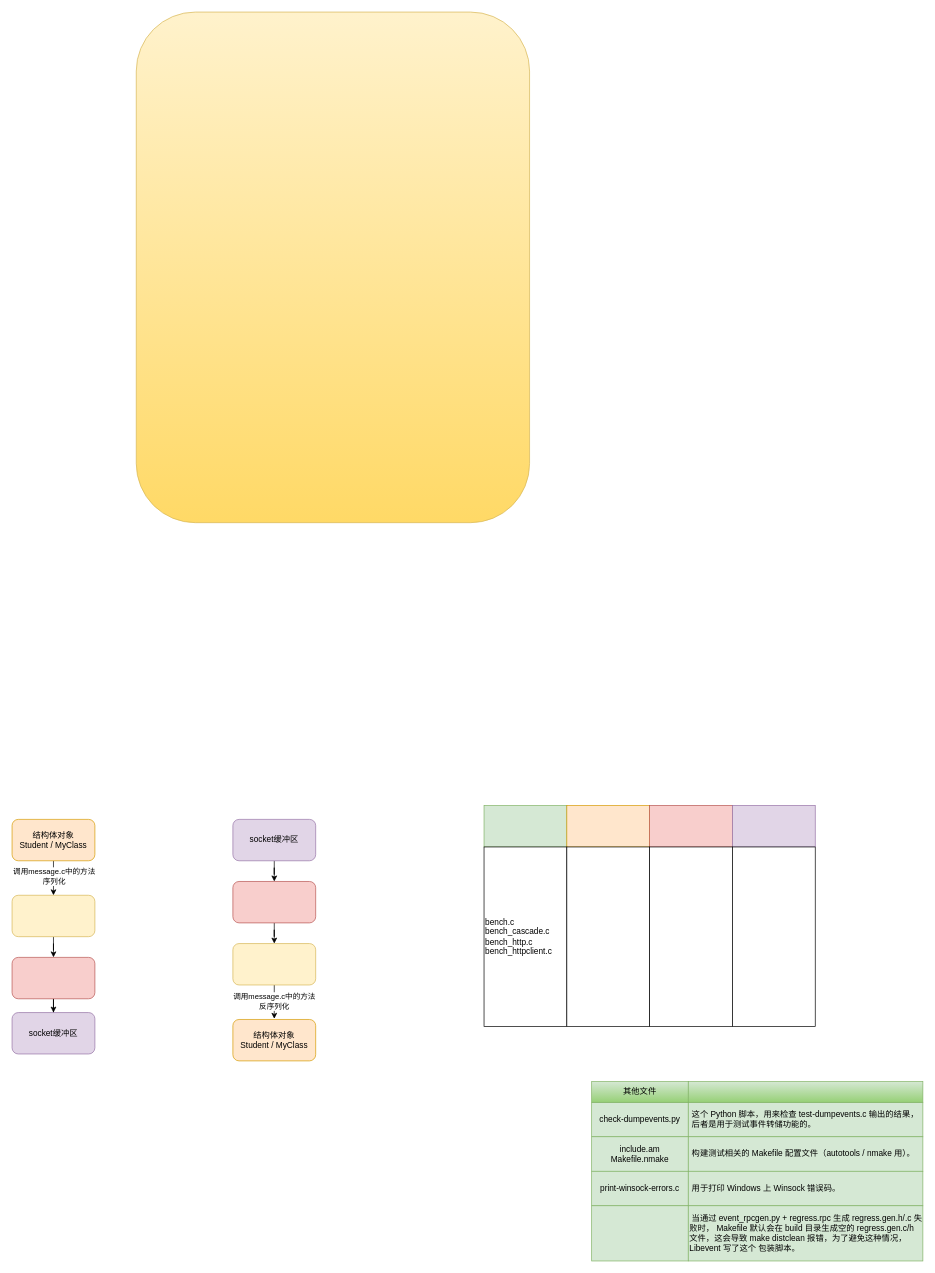
The diagram is 935 pixels wide and 1273 high, and some of its shapes have lost their labels. Here are the shapes that lost their labels. From the top down, the centre of each, then its label:
(333,267): 图解 libevent 深度C++
(53,916): 二进制字节流
(274,902): bufferevent 回调触发
(53,978): 传输通道 bufferevent / evbuffer
(274,964): 二进制字节流 接收缓冲区
(805,1091): 说明
(639,1233): rpcgen_wrapper.sh
